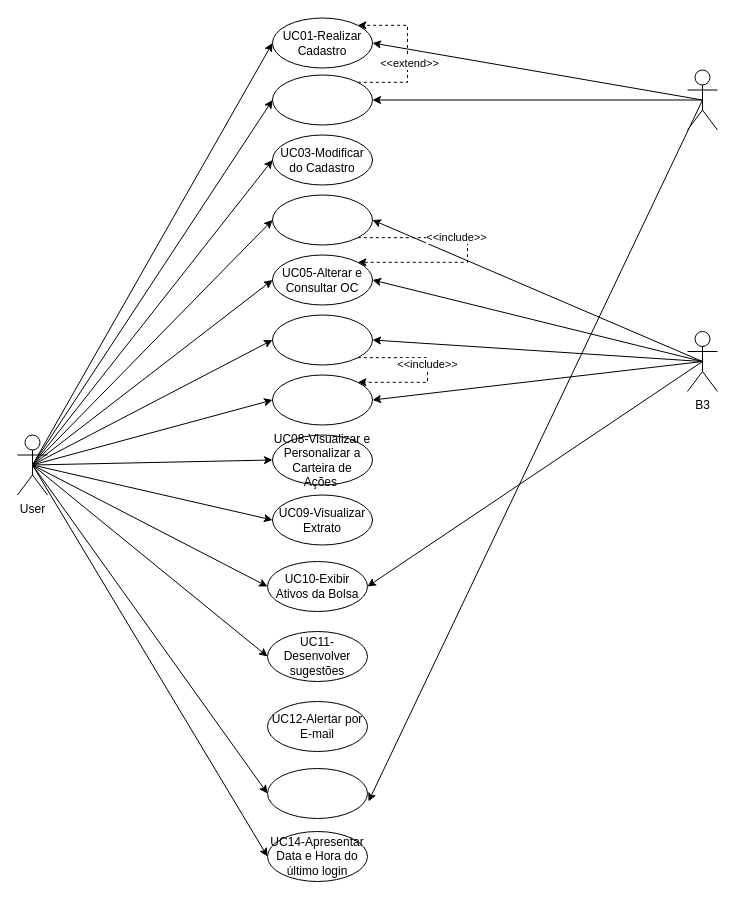
Image size: 751x899. Some labels were removed from this diagram. The centre of each missing label's shape, as x and y in pixels:
Funcionário: (x=702, y=99)
UC02-Realizar Login: (x=322, y=99)
UC04-Realizar a ordem de compra(OC): (x=322, y=219)
UC06-Realizar a ordem de venda(OV): (x=322, y=339)
UC07-Alterar e Consultar OV: (x=322, y=399)
UC13-Criar guia do iniciante: (x=317, y=793)
